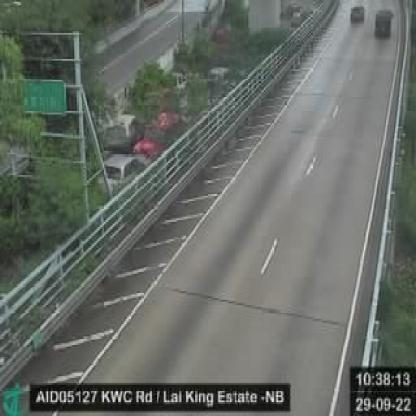Car: (95, 149, 155, 192), (369, 3, 394, 40), (346, 2, 366, 28)
